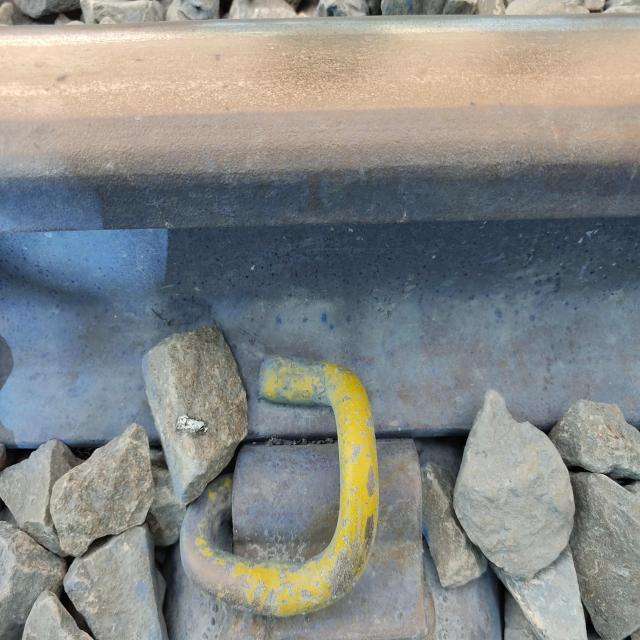Good Fasteners: (145, 317, 443, 640)
